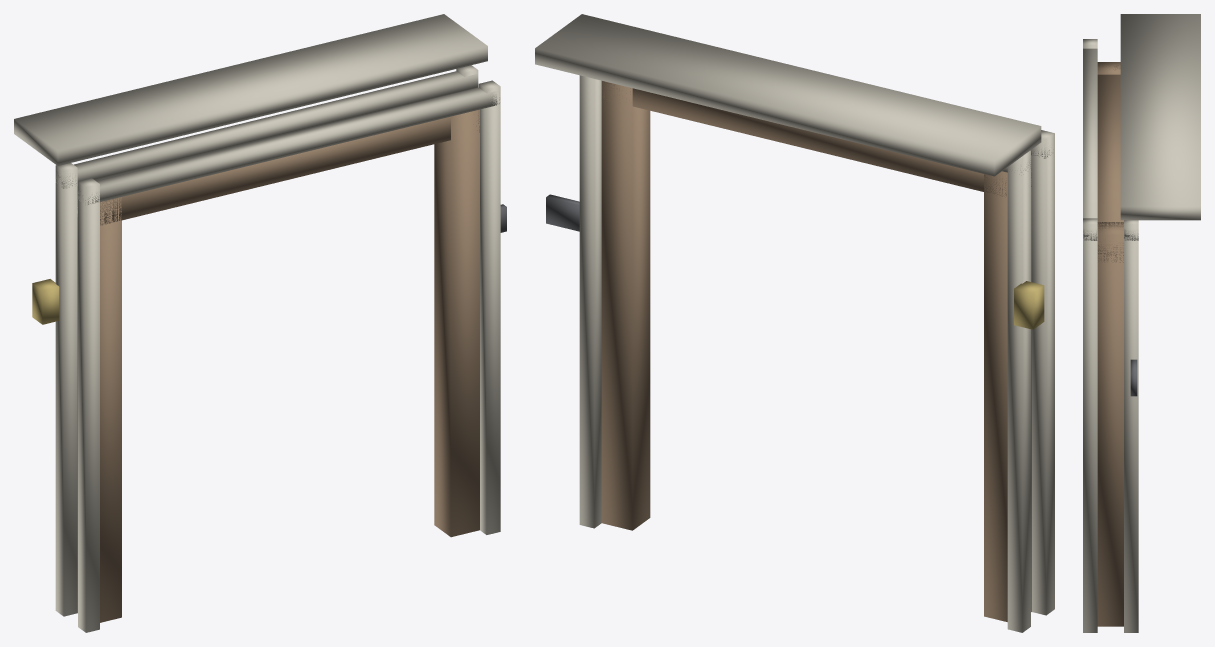
File: doorway_motel_w182_h210_d16.glb
The picture shows the model from 3 angles, left to right: view 1: azimuth 30°, elevation 25°; view 2: azimuth 150°, elevation 25°; view 3: azimuth 270°, elevation 25°; orthographic projection. The views are drawn at different scales.
Parts seen in each view (by area): view 1: world; view 2: world; view 3: world.
Part boxes in pixels (x1,y1,x2,y2): world: (14, 14, 506, 632); world: (535, 14, 1054, 632); world: (1083, 14, 1200, 632).
Bounding box in the file's own units: 2.57 × 2.48 × 0.6153.
